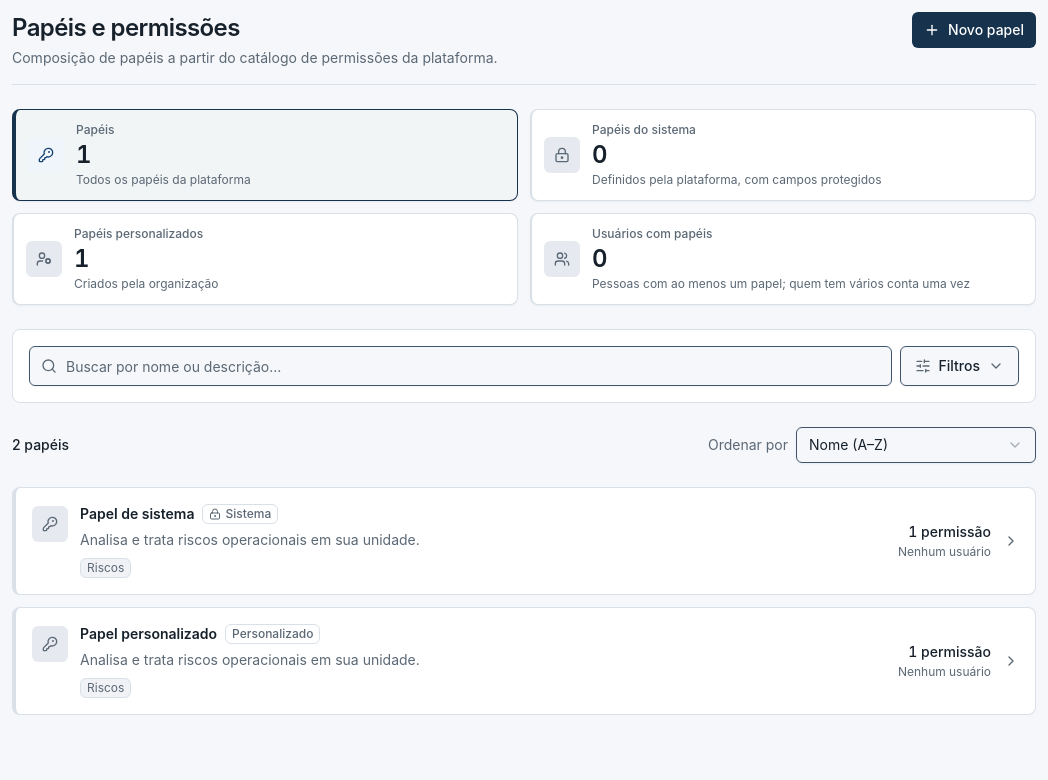
Test: RoleAdminView — indicators › applies the kind filter from the indicator, marks it pressed, and leaves the fourth indicator inert
expect the text "Papel personalizado" is shown: met, box [80,624,217,644]
Click the button named "Mostrar somente os papéis do sistema": (783, 155) [530,109,1036,201]
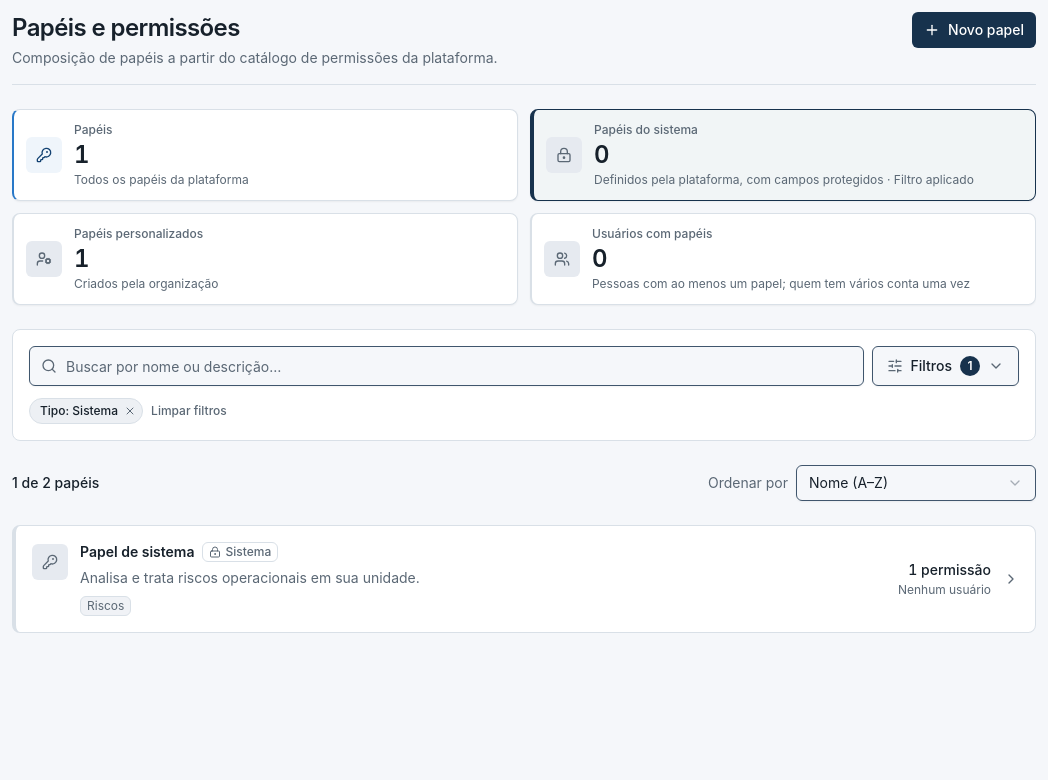
expect the text "Papel de sistema" is shown: met, box [80,542,194,562]
expect the button "Papel personalizado" is gone: met
